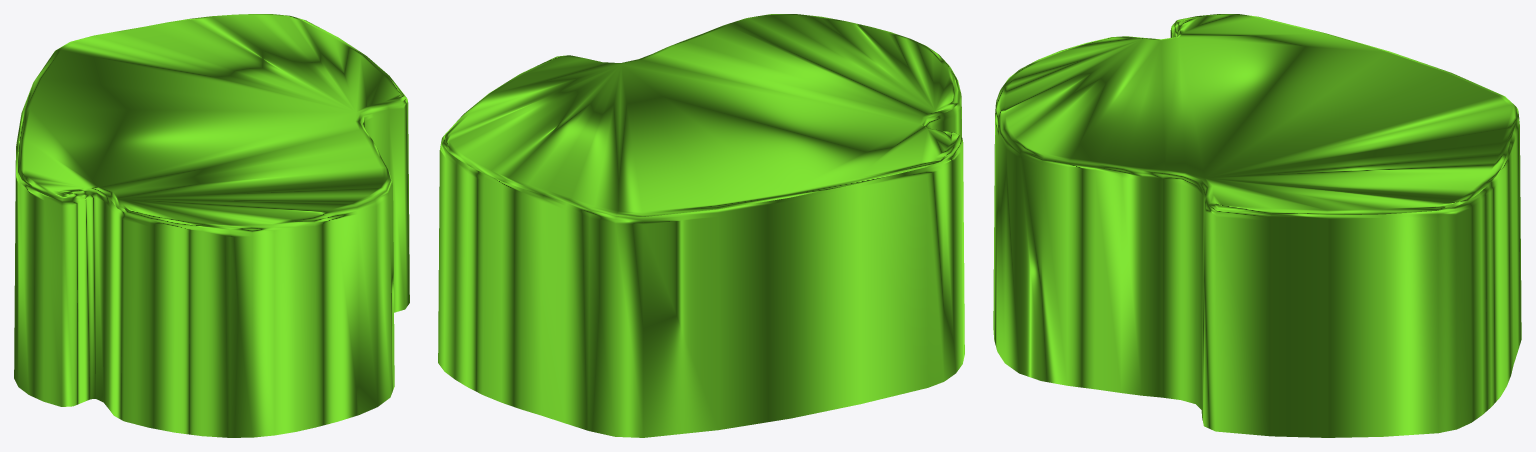
File: lorville_noflyzone_suburb_redout_02.glb
3 renders of one model, left to right at view 1: azimuth 30°, elevation 25°; view 2: azimuth 150°, elevation 25°; view 3: azimuth 270°, elevation 25°, orthographic. The views are drawn at different scales.
Size of the model in its own units: 3131 by 1591 by 3415.
